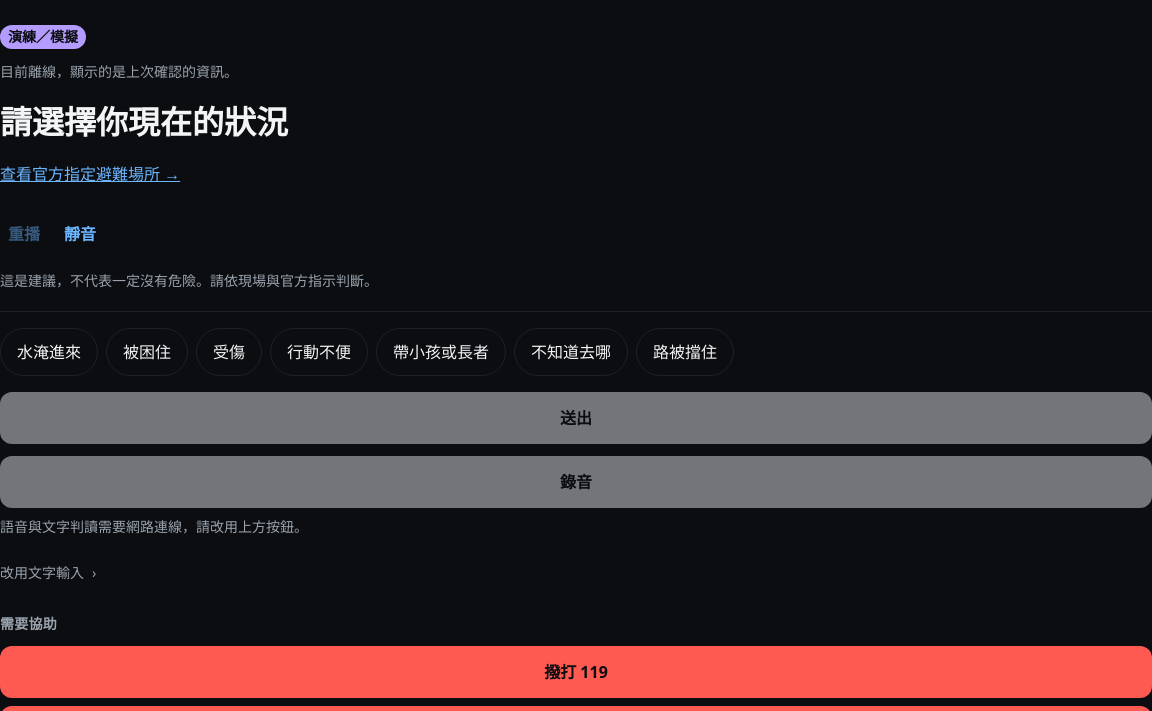
Test: works offline with the seven buttons: local level-1 text, no extract, recording disabled with a reason
The width and height of the screenshot is (1152, 711).
Step 1. Click the button "水淹進來" → (49, 352), box [0,328,98,376]
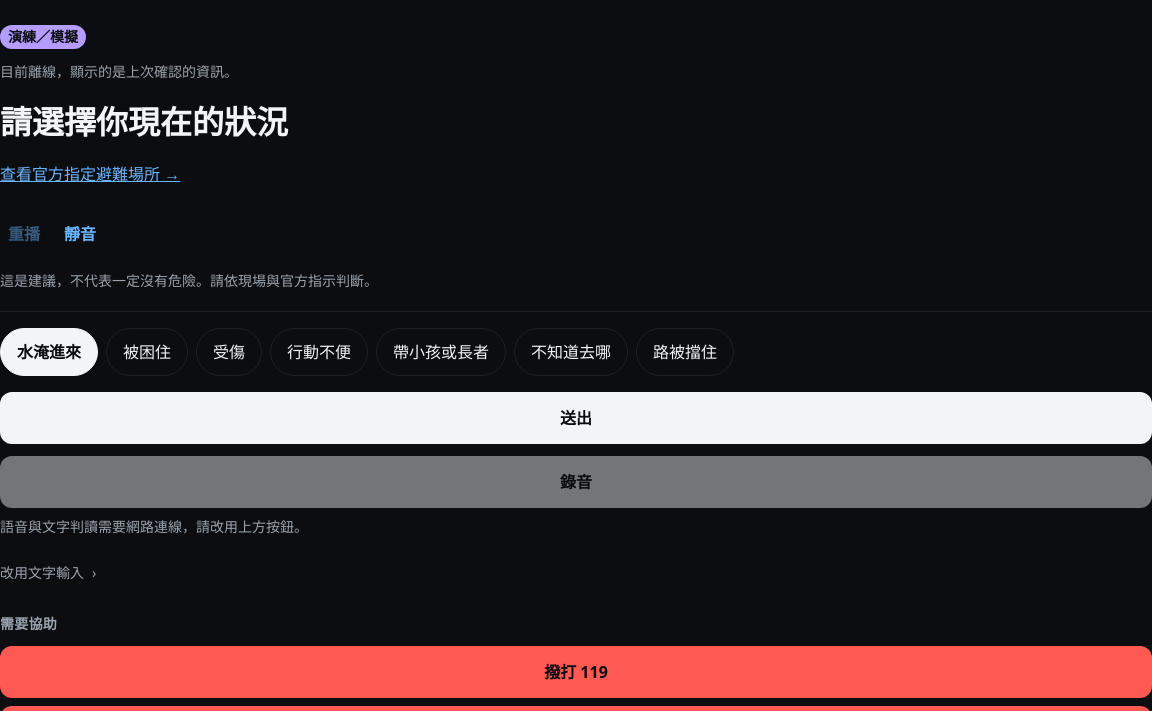
Step 2. Click the button "送出" → (576, 418), box [0,392,1151,444]
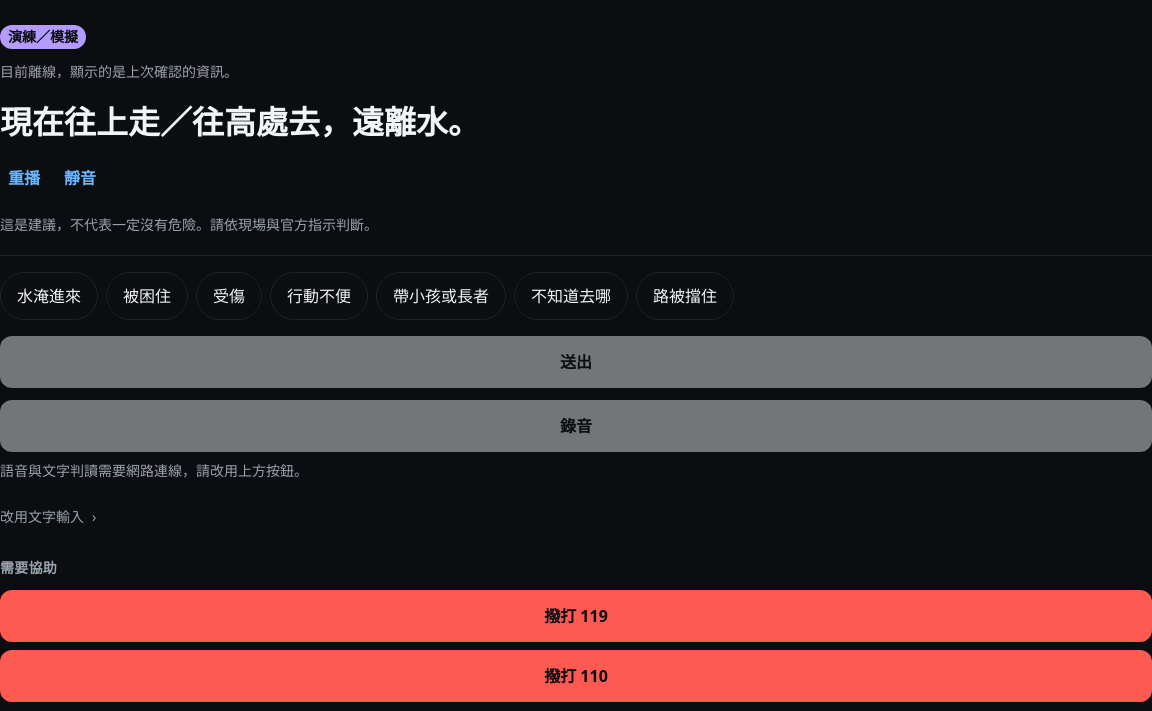
Expected: the text "語音與文字判讀需要網路連線，請改用上方按鈕。" is shown, [0,460,308,480]
Expected: the element with test id "distress-primary" shows "現在往上走／往高處去，遠離水。", [0,100,480,142]
